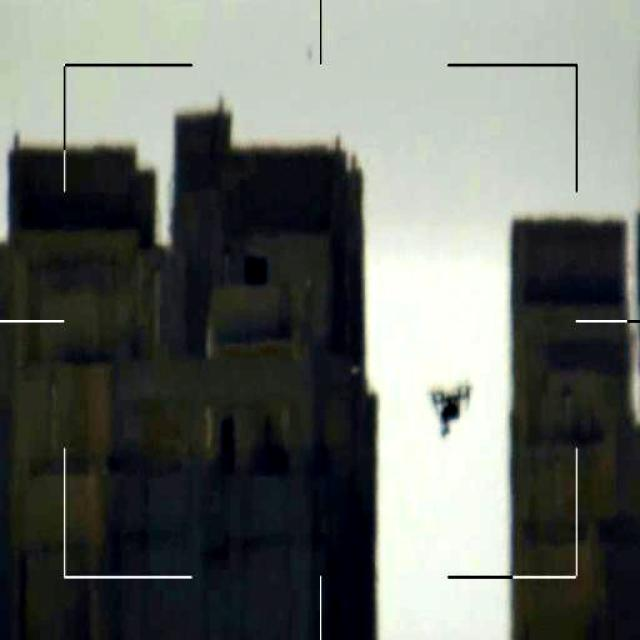bird: (424, 379, 474, 448)
